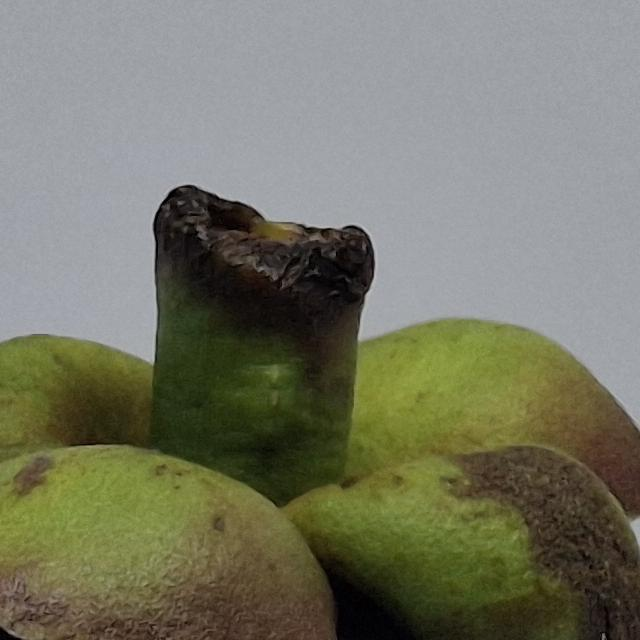mangosteen: (0, 145, 640, 640)
